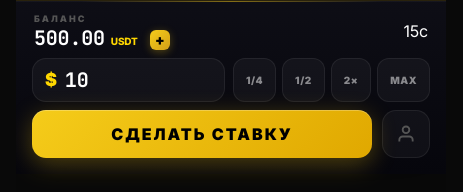
Test case: 🎰 CASINO CORE - Game Logic › BettingPanel Component › shows max button sets max amount
The width and height of the screenshot is (463, 192).
Click the button "MAX": (404,80) [377, 58, 430, 102]
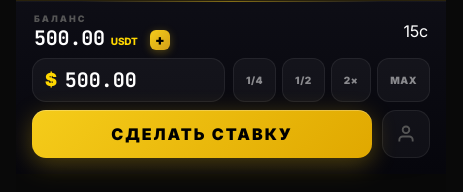
Expected: the number field with placeholder "0.00" holds "500", [65, 66, 212, 92]
